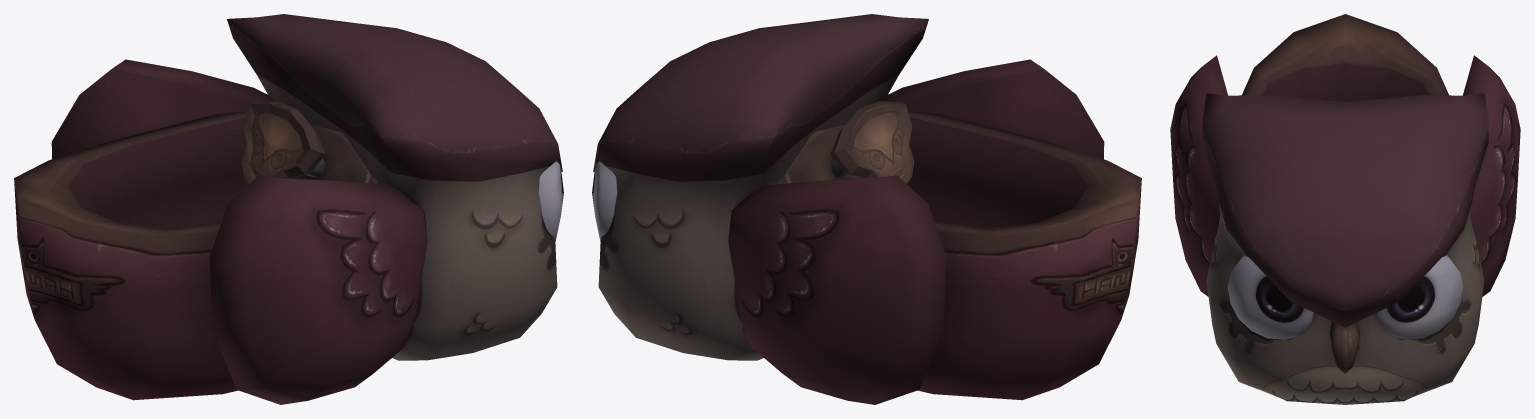
Rendered from Owl Kart.FBX.
3 renders of one model, left to right at view 1: azimuth 30°, elevation 25°; view 2: azimuth 150°, elevation 25°; view 3: azimuth 270°, elevation 25°, orthographic. The views are drawn at different scales.
Visible parts, largest first — view 1: OwlKart, SteeringBit, Steering_Wheel; view 2: OwlKart, SteeringBit, Steering_Wheel; view 3: OwlKart.
Boxes of the visible parts, <box> form: OwlKart: <box>14,14,563,404</box>; SteeringBit: <box>241,101,325,184</box>; Steering_Wheel: <box>295,125,377,183</box>; OwlKart: <box>592,14,1141,404</box>; SteeringBit: <box>830,101,914,184</box>; Steering_Wheel: <box>778,125,860,183</box>; OwlKart: <box>1170,14,1520,404</box>.
Size of the model in its own units: 38.86 by 20.7 by 25.53.
2 materials, 2 textured.
